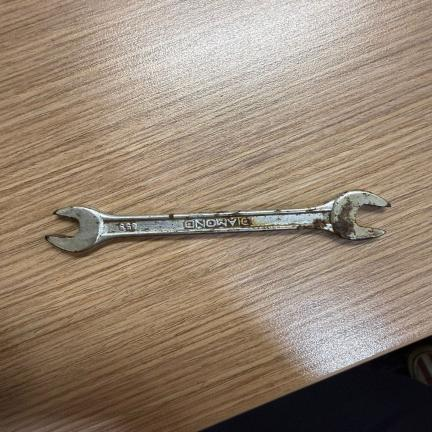besi_tidak_karat: (46, 191, 390, 252)
